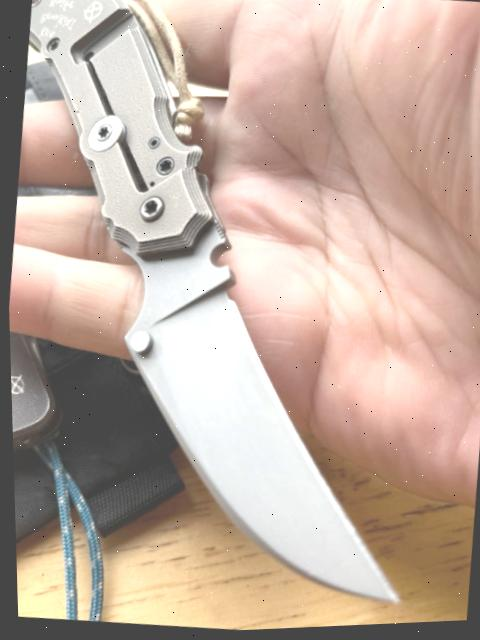pocket-knife: (0, 0, 465, 631)
